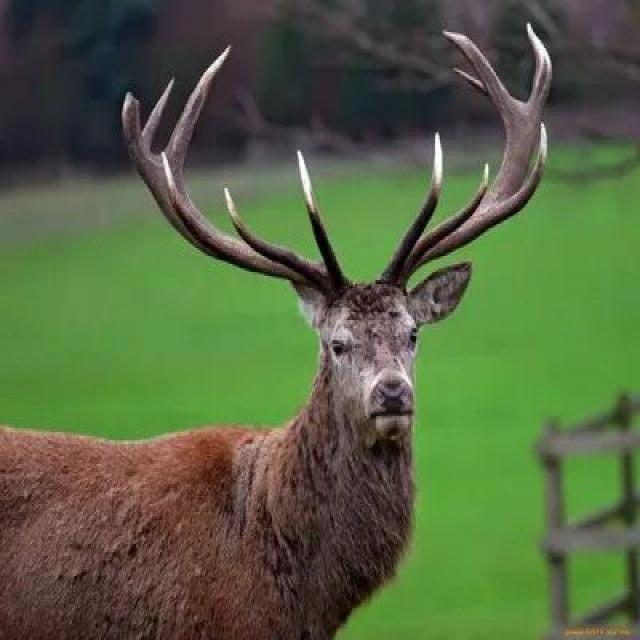deer: (112, 51, 466, 530)
